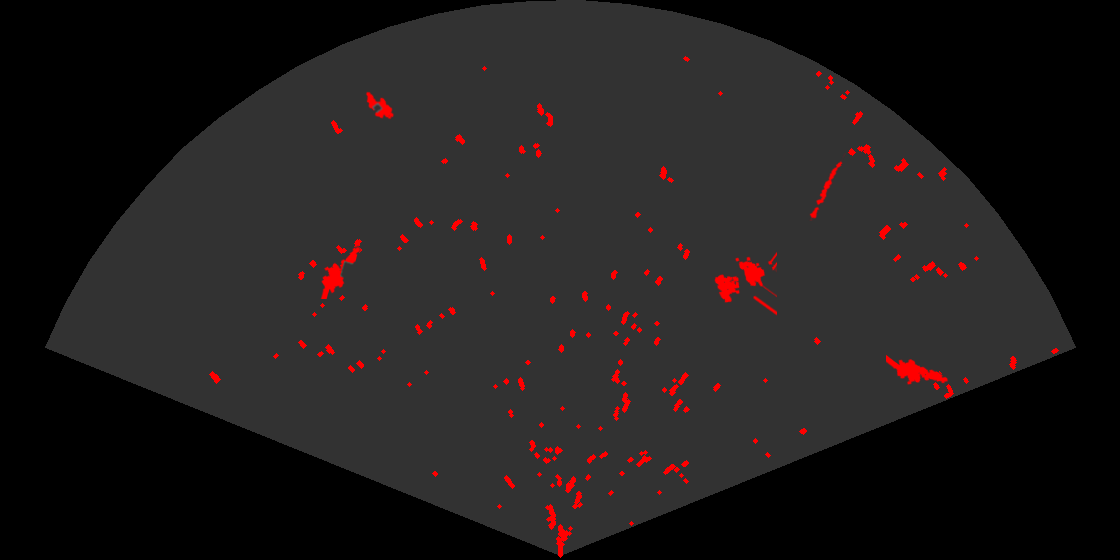AUV: (364, 90, 396, 121)
cage: (713, 250, 777, 317)
chain: (808, 153, 846, 221)
frogman: (319, 245, 361, 299), (886, 353, 950, 386)
